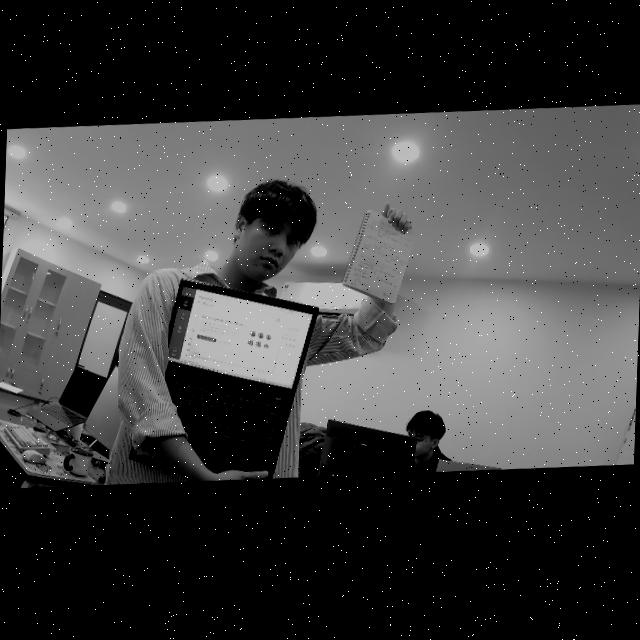document: (342, 208, 417, 306)
face: (238, 201, 305, 285)
